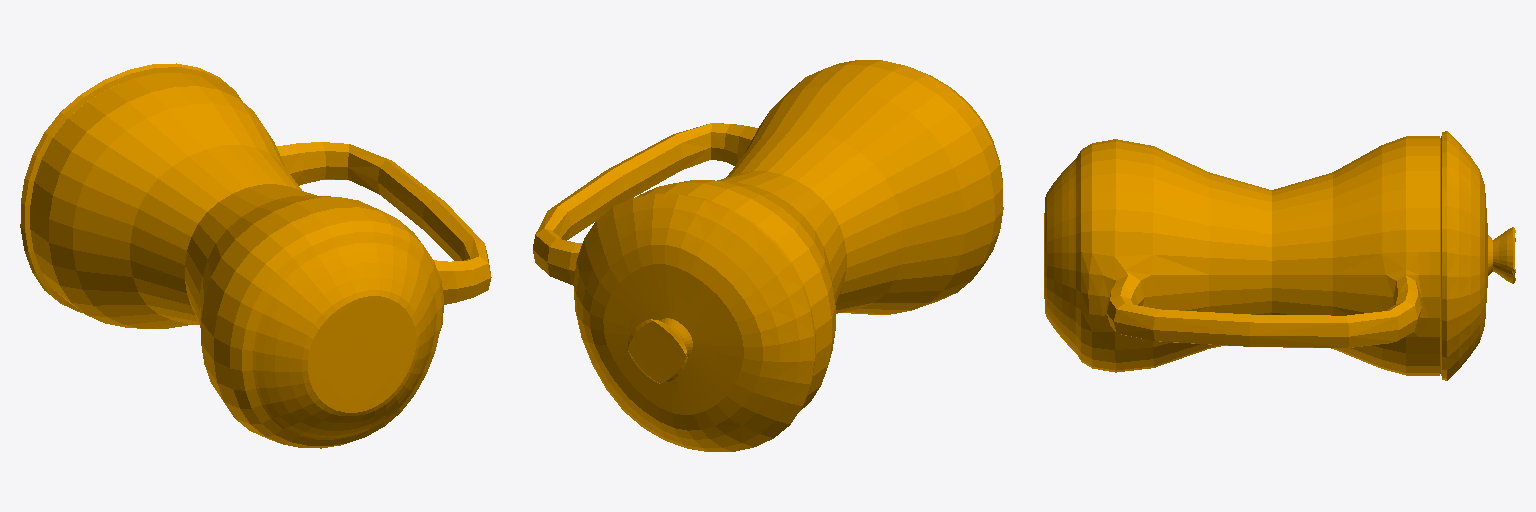
The robot description file, URDF, robot "169":
<?xml version="1.0" ?>
<robot name="169">
  <link name="body">
    <visual>
      <geometry>
        <mesh filename="../shapes/169.obj"/>
      </geometry>
    </visual>
    <collision>
      <geometry>
        <mesh filename="../shapes/169.obj"/>
      </geometry>
    </collision>
  </link>
</robot>

--- Facts derived from the render (not from the file) ---
Views: 3 orthographic renders of the robot side by side, from view 1: azimuth 30°, elevation 25°; view 2: azimuth 150°, elevation 25°; view 3: azimuth 270°, elevation 25°.
Model 169 with 1 links and 0 joints (none), rooted at body, posed all joints at 0.
Visible links, largest first — view 1: body; view 2: body; view 3: body.
Boxes of the visible links, box(x1,y1,x2,y2) form: body: box(20, 63, 491, 448); body: box(533, 60, 1003, 451); body: box(1044, 131, 1515, 380).
Bounding box of the posed robot: 3.43 × 4.88 × 2.55 m (x, y, z).
1 mesh visuals loaded from 1 distinct referenced files (1 OBJ).